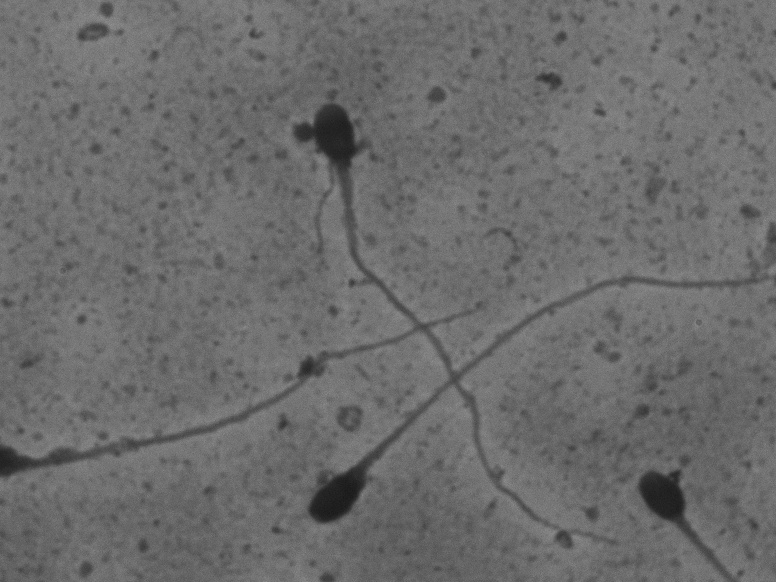Abnormal: (299, 81, 637, 564), (295, 265, 765, 535)
